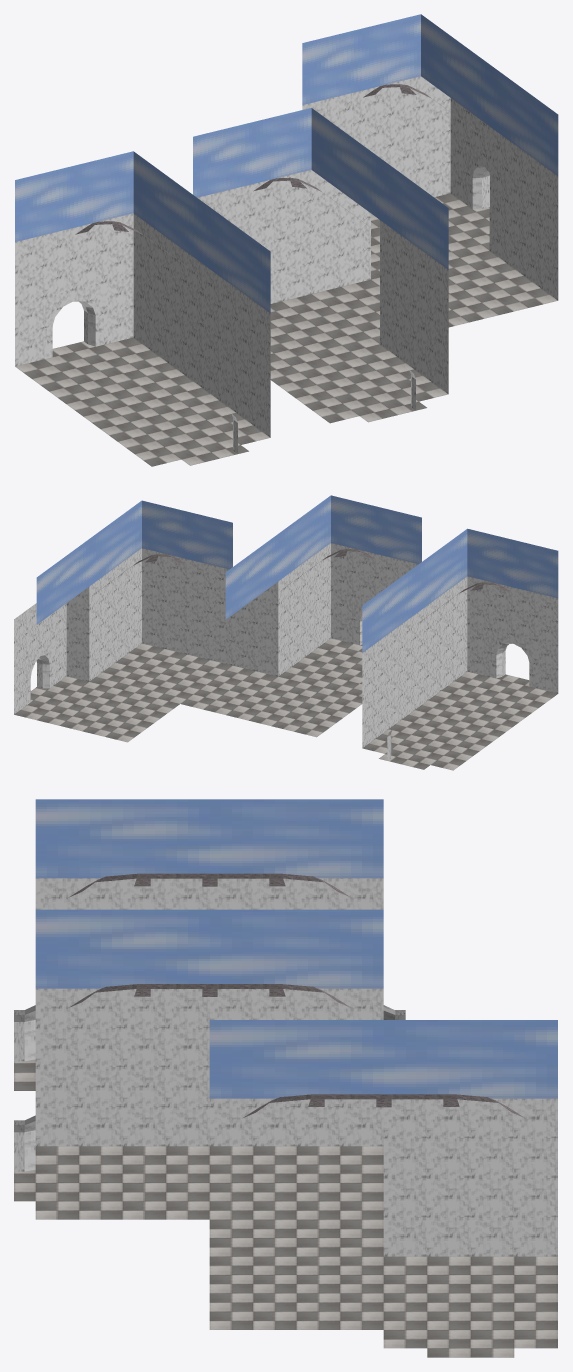
The model's file is Hallway1.glb.
3 views of the same model, one above another, from view 1: azimuth 30°, elevation 25°; view 2: azimuth 150°, elevation 25°; view 3: azimuth 270°, elevation 25° (orthographic). The views are drawn at different scales.
Visible parts, largest first — view 1: Walls, Sky, Floor, Ceiling; view 2: Walls, Floor, Sky, Ceiling; view 3: Walls, Sky, Floor, Ceiling.
Part boxes in pixels (left/top/right/bottom): Walls: left=15, top=76, right=558, bottom=453; Sky: left=15, top=14, right=558, bottom=313; Floor: left=15, top=193, right=557, bottom=466; Ceiling: left=75, top=84, right=482, bottom=274; Walls: left=14, top=543, right=558, bottom=760; Floor: left=14, top=638, right=557, bottom=770; Sky: left=36, top=495, right=558, bottom=652; Ceiling: left=94, top=549, right=511, bottom=619; Walls: left=14, top=878, right=557, bottom=1256; Sky: left=35, top=799, right=557, bottom=1098; Floor: left=14, top=1059, right=557, bottom=1357; Ceiling: left=69, top=873, right=525, bottom=1118.
Bounding box in the file's own units: 17.51 × 6 × 12.53.
4 materials, 4 textured.
